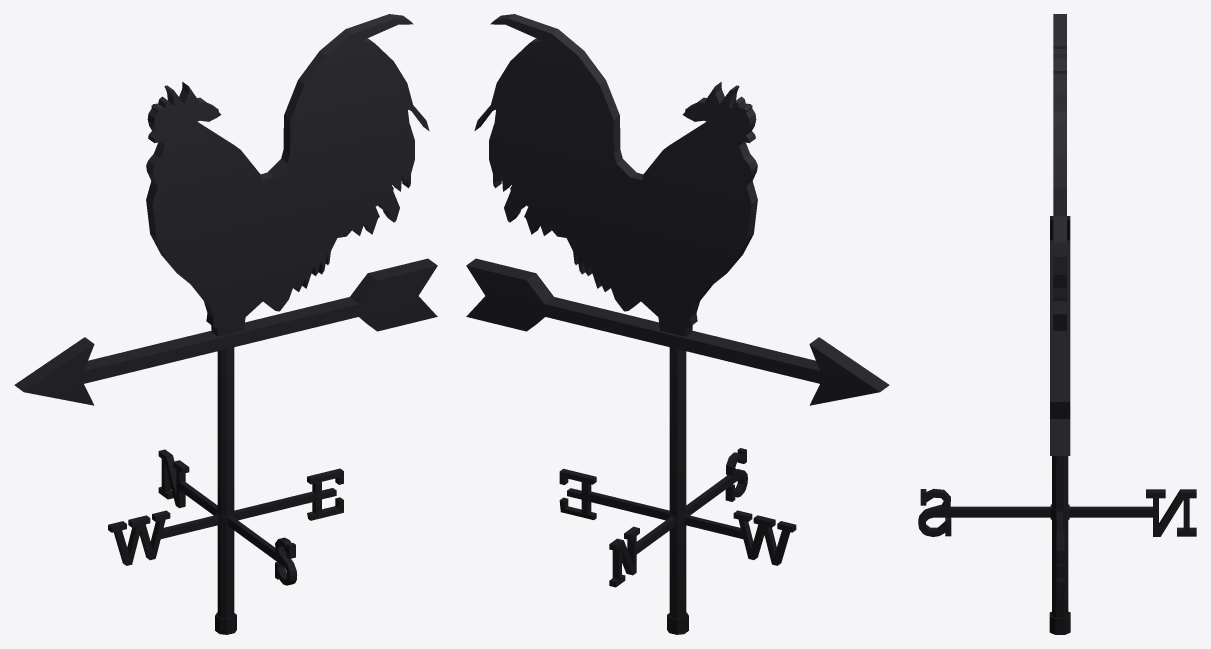
The model's file is Prop_Weathervane_02.obj.
The picture shows the model from 3 angles, left to right: view 1: azimuth 30°, elevation 25°; view 2: azimuth 150°, elevation 25°; view 3: azimuth 270°, elevation 25°; orthographic projection. The views are drawn at different scales.
Parts seen in each view (by area): view 1: Prop_Weathervane_Top_02, Prop_Weathervane_02; view 2: Prop_Weathervane_Top_02, Prop_Weathervane_02; view 3: Prop_Weathervane_02, Prop_Weathervane_Top_02.
Part boxes in pixels (x1,y1,x2,y2): Prop_Weathervane_Top_02: (14,14,437,405); Prop_Weathervane_02: (108,347,343,634); Prop_Weathervane_Top_02: (466,14,889,405); Prop_Weathervane_02: (559,347,796,634); Prop_Weathervane_02: (918,456,1196,634); Prop_Weathervane_Top_02: (1050,14,1070,455).
Bounding box in the file's own units: 1.04 × 1.38 × 0.5747.
Materials: 1 (1 with a texture image).
